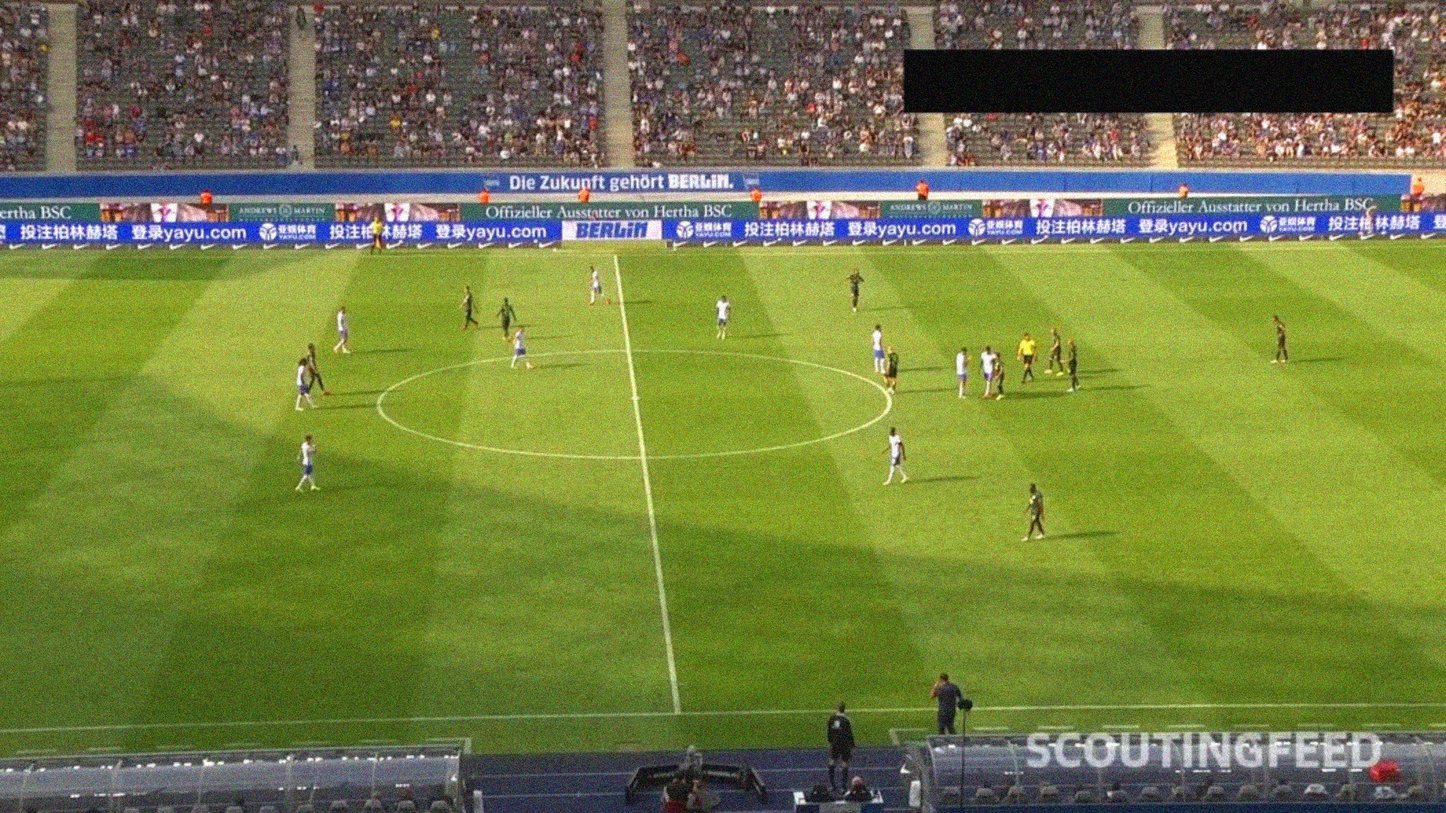player: (880, 426, 911, 486), (294, 434, 323, 493), (1019, 483, 1047, 542), (293, 358, 323, 412), (305, 343, 331, 396), (1058, 337, 1082, 393), (977, 346, 1000, 400), (1269, 313, 1293, 364), (510, 324, 534, 371), (1043, 327, 1064, 377), (954, 346, 973, 400), (457, 285, 479, 331), (332, 305, 352, 355), (495, 297, 517, 342), (587, 266, 612, 305), (880, 346, 899, 396), (990, 351, 1008, 401), (846, 267, 865, 313), (870, 323, 887, 374), (715, 296, 733, 340)
referee: (1017, 333, 1039, 384), (367, 215, 386, 259)
